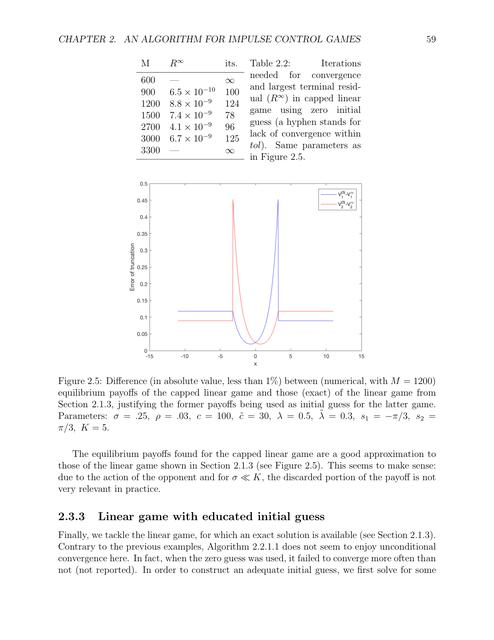box: (128, 178, 368, 368), (138, 54, 362, 167)
